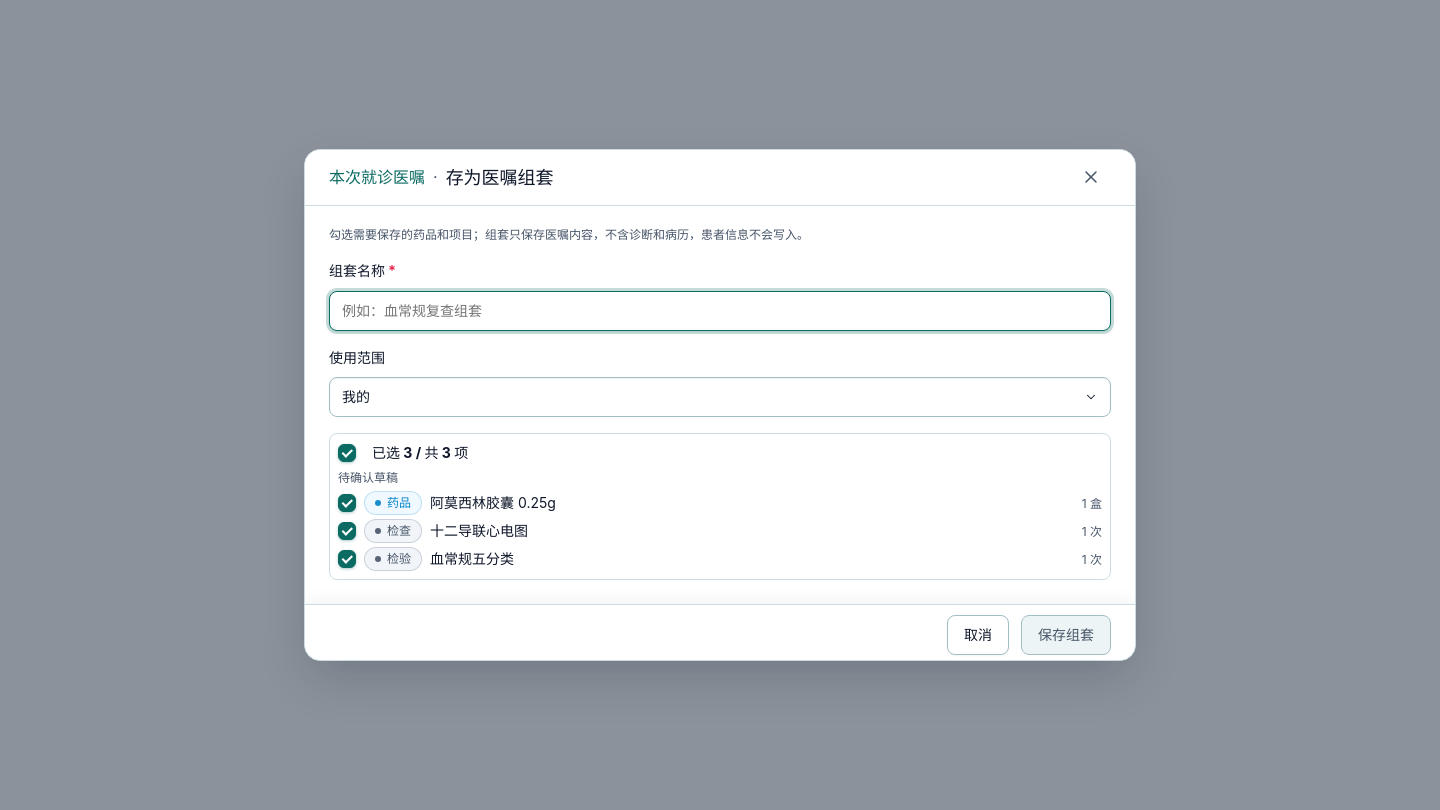
SaveOrderSetDialog (医嘱区“存为组套”) › keeps the dialog open with a code-based message when the server answers ORDER_SET_EMPTY
Type "失败" into the field with placeholder "例如：血常规复查组套" at x=720, y=310, box [329, 290, 1111, 330]
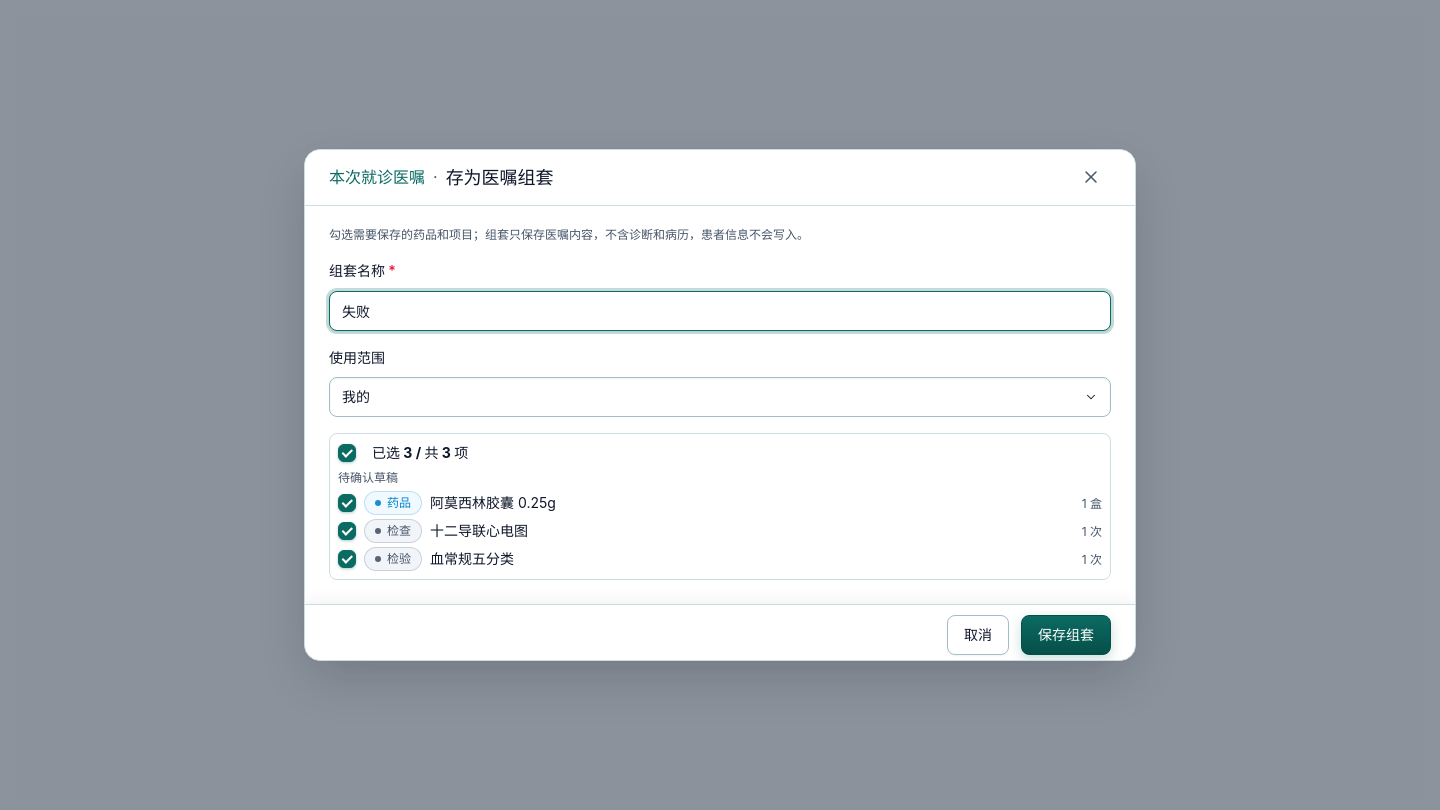
Click the button "保存组套" at x=1066, y=635, box [1021, 615, 1111, 655]
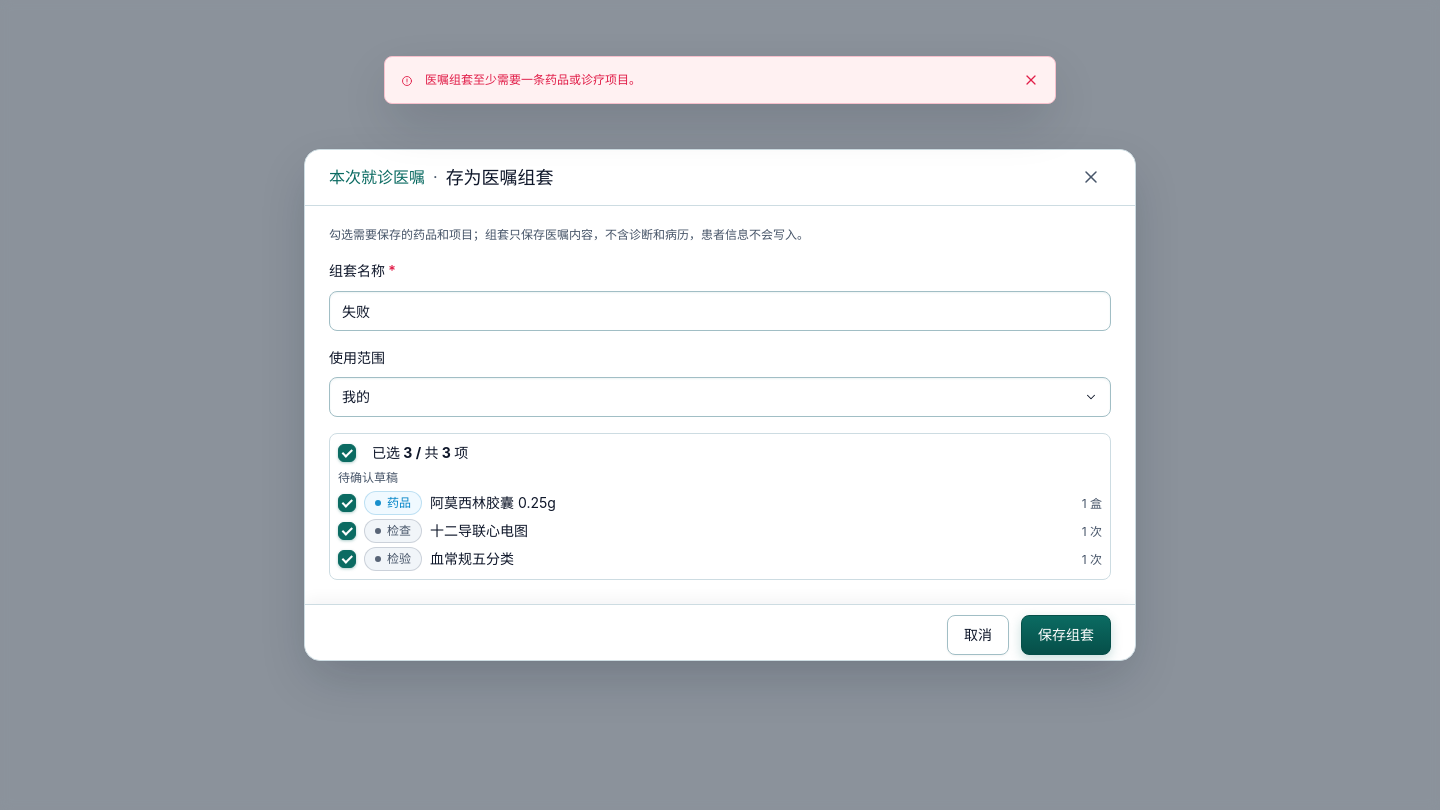
Expected: the checkbox named "选择项目 血常规五分类" is checked, [338, 550, 356, 568]
Expected: the message shows "至少需要一条", [425, 72, 641, 87]
